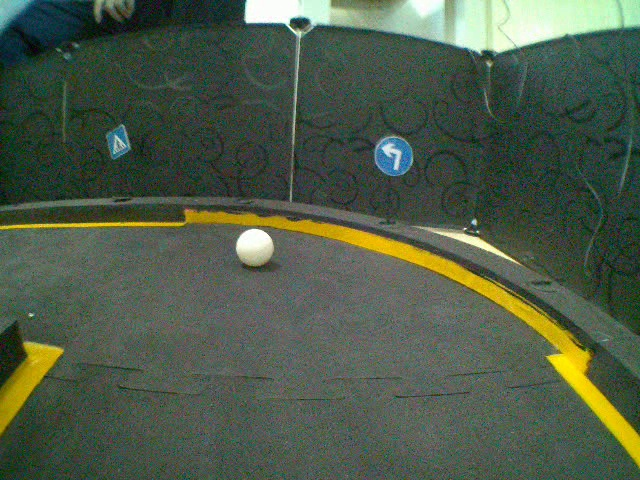ball: (232, 225, 273, 270)
